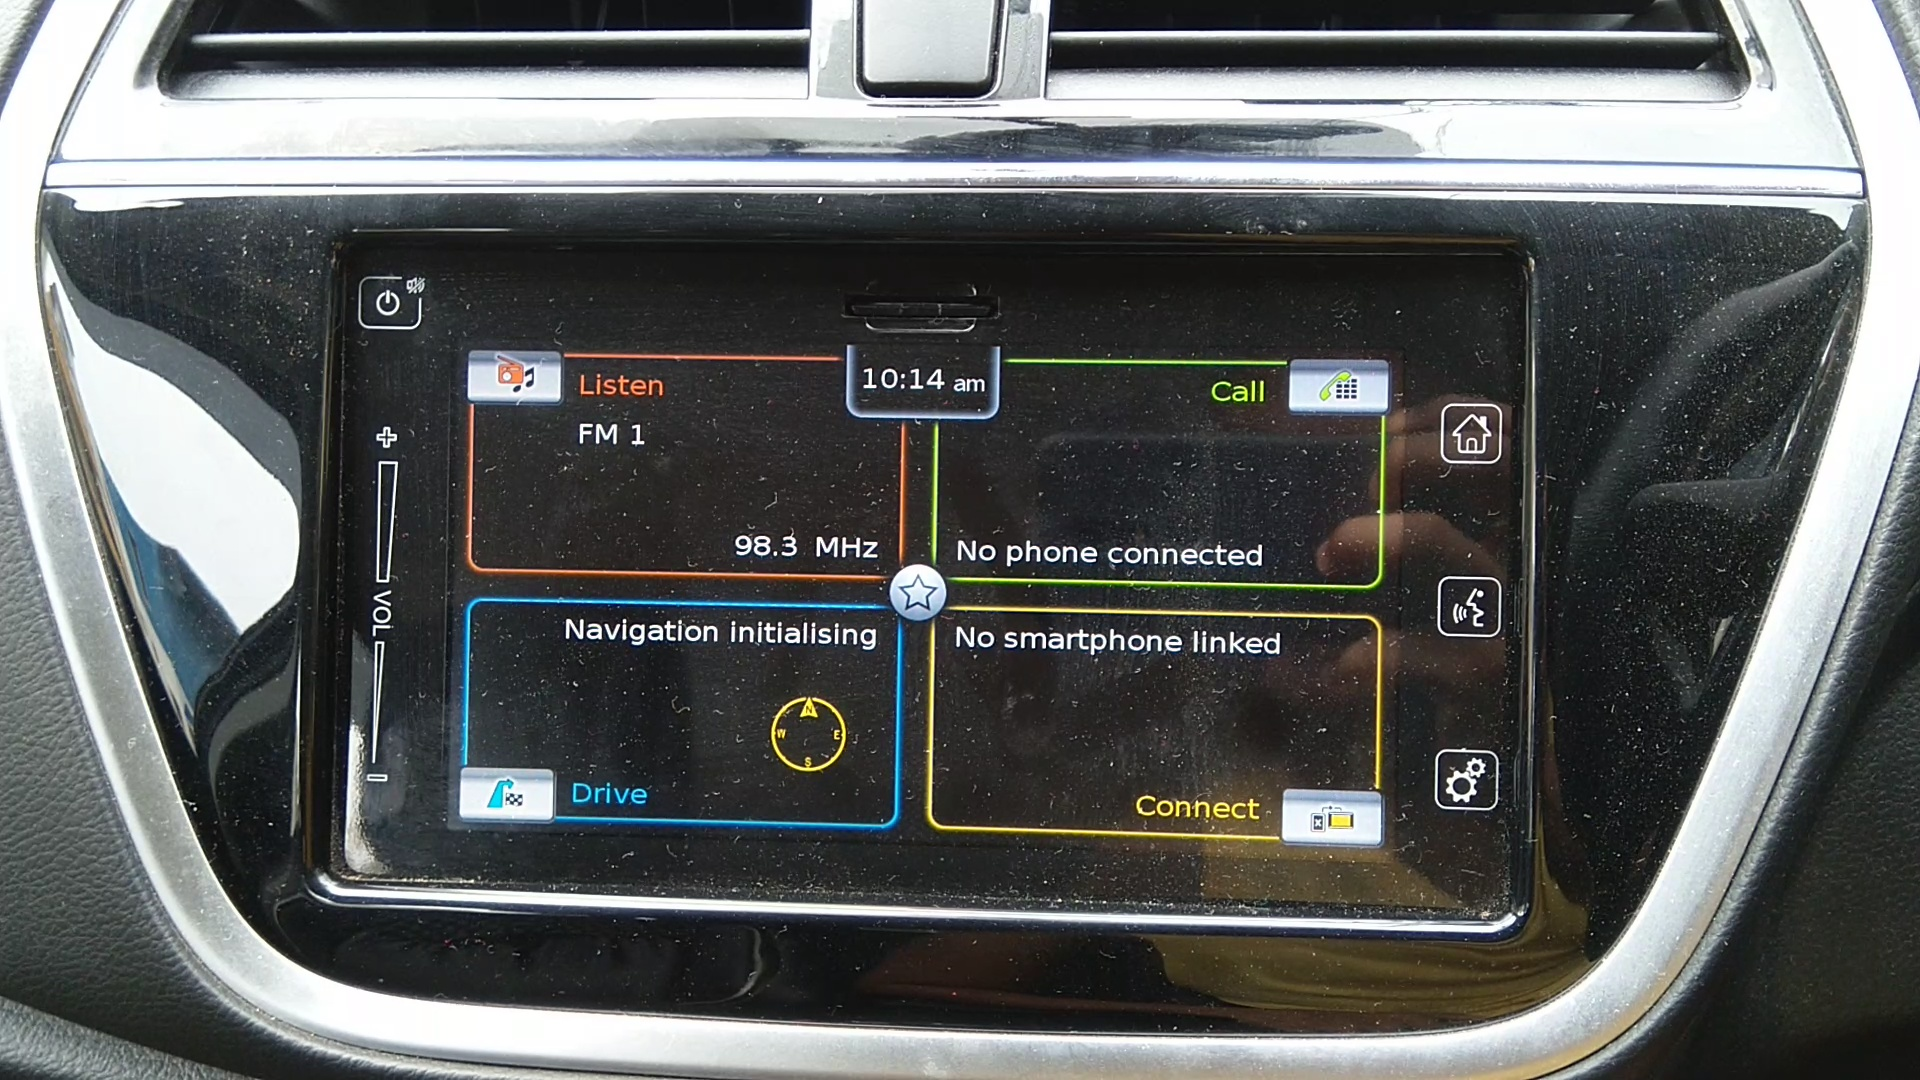touch_infotainment: (280, 215, 1600, 935)
